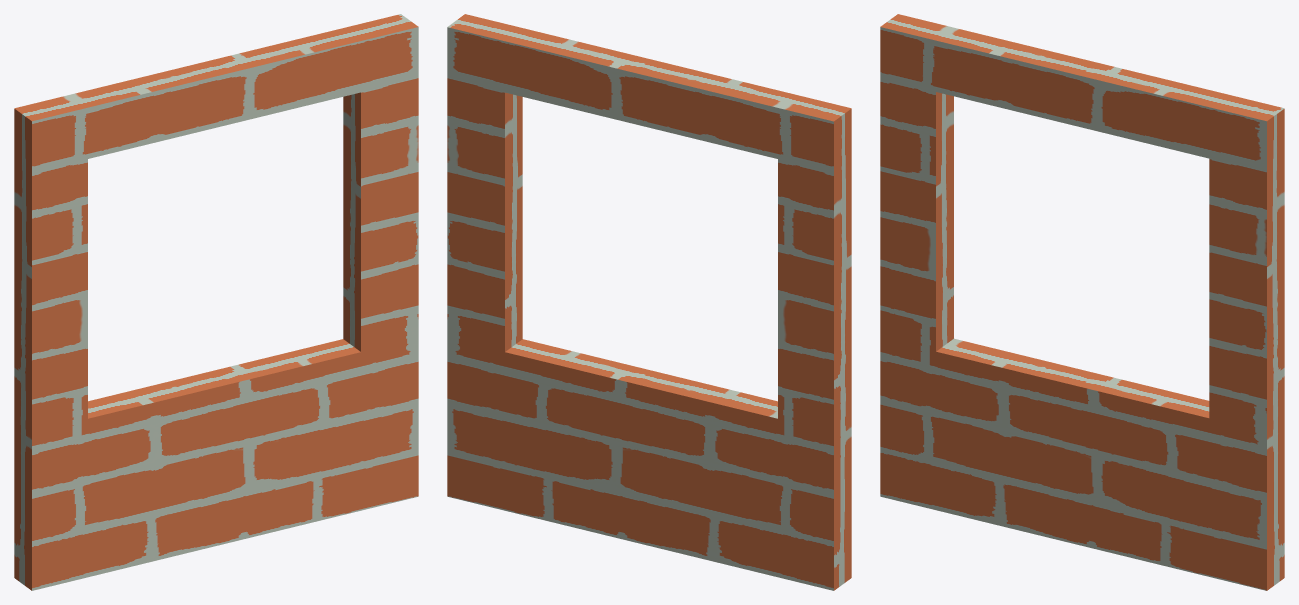
The model's file is Brick_Wall_Win_03.fbx.
3 views of the same model, side by side, from view 1: azimuth 30°, elevation 25°; view 2: azimuth 150°, elevation 25°; view 3: azimuth 330°, elevation 25° (orthographic).
Parts seen in each view (by area): view 1: Brick_Wall_Win_03; view 2: Brick_Wall_Win_03; view 3: Brick_Wall_Win_03.
Part boxes in pixels (<box>): Brick_Wall_Win_03: <box>14,14,418,590</box>; Brick_Wall_Win_03: <box>447,14,851,590</box>; Brick_Wall_Win_03: <box>880,14,1284,590</box>.
Size of the model in its own units: 250 by 290 by 20.
